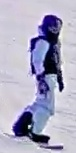snowboarder: (3, 15, 64, 150)
